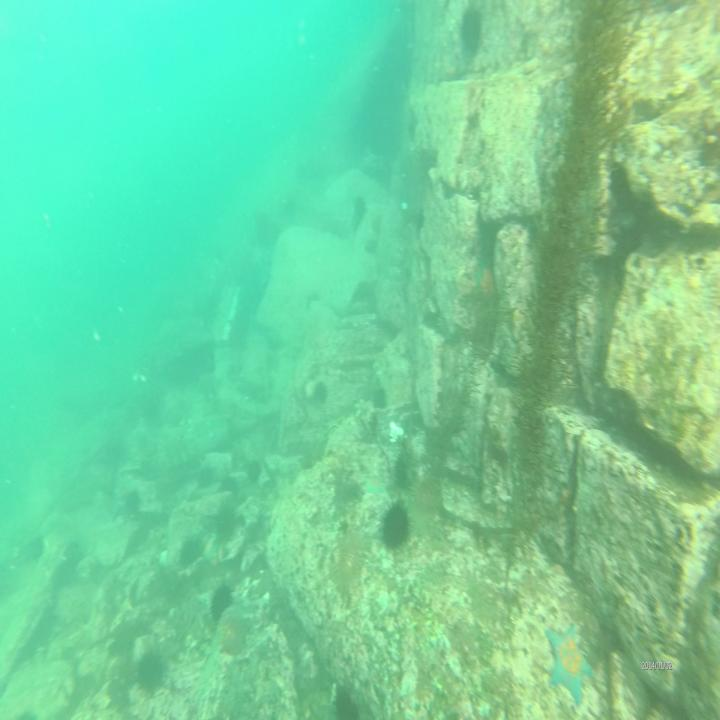echinus: (331, 530, 369, 594), (606, 392, 640, 444), (381, 498, 412, 552), (135, 647, 167, 693), (457, 10, 485, 58), (209, 580, 233, 624), (333, 684, 362, 720), (178, 537, 204, 573), (312, 378, 330, 406), (371, 387, 388, 413)
starfish: (544, 624, 596, 703), (475, 251, 498, 310)
